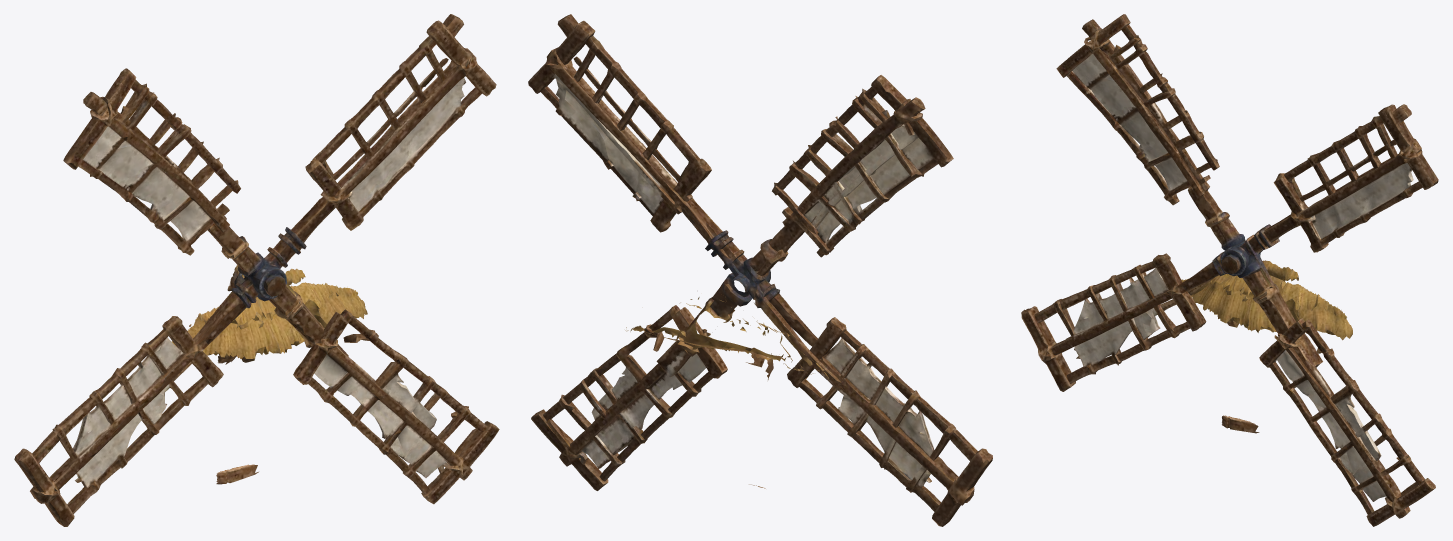
File: windmill_blades_lite.glb
3 renders of one model, left to right at view 1: azimuth 30°, elevation 25°; view 2: azimuth 150°, elevation 25°; view 3: azimuth 330°, elevation 25°, orthographic. The views are drawn at different scales.
Visible parts, largest first — view 1: geometry_0; view 2: geometry_0; view 3: geometry_0.
Part boxes in pixels (bbox=[...]): geometry_0: bbox=[14, 14, 499, 526]; geometry_0: bbox=[528, 14, 992, 526]; geometry_0: bbox=[1021, 14, 1438, 526].
Bounding box in the file's own units: 1.43 × 1.44 × 0.1451.
Materials: 1 (1 with a texture image).
